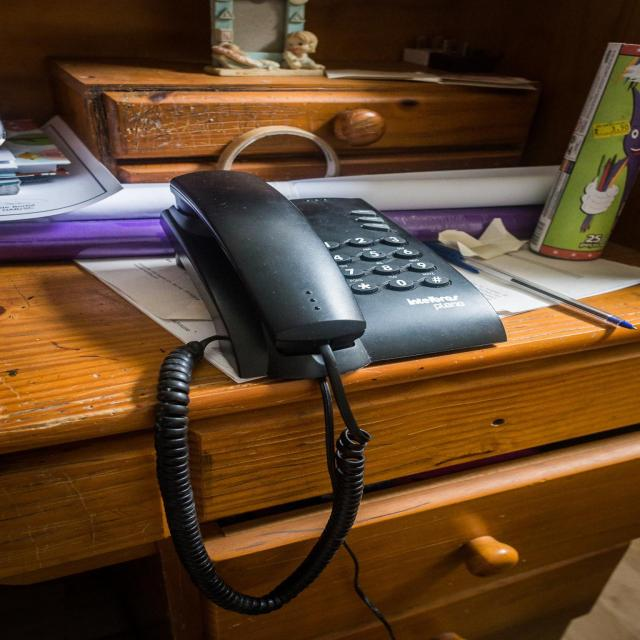Phone: (158, 168, 507, 617)
